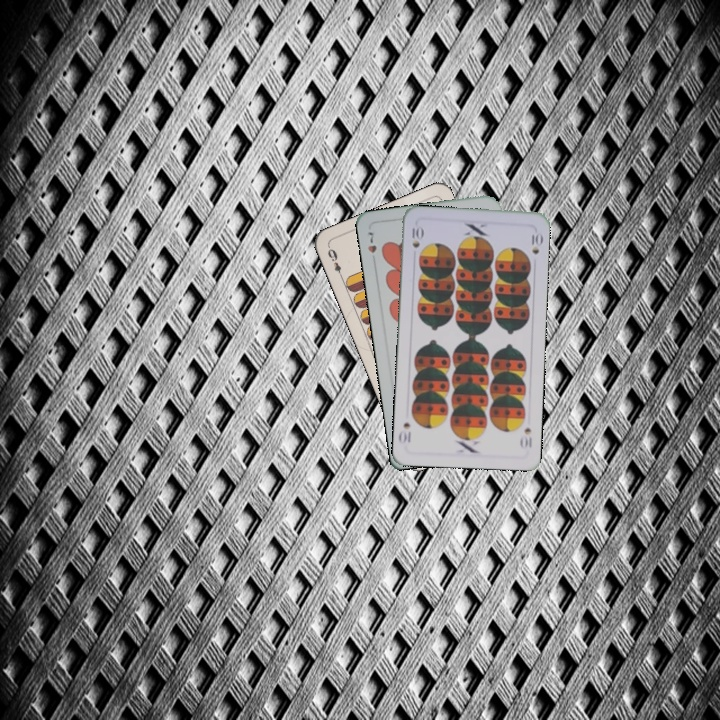E9: (324, 243, 346, 282)
H7: (363, 228, 379, 255)
S10: (517, 424, 534, 450), (408, 224, 424, 250)
